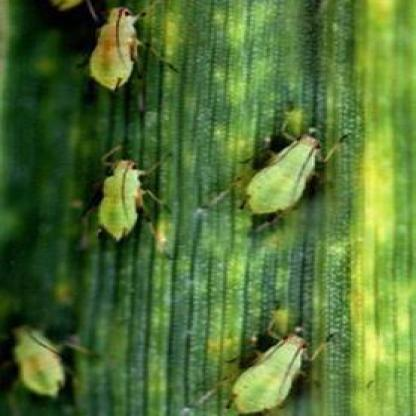aphid: (228, 113, 346, 225), (216, 310, 336, 416), (69, 0, 182, 101), (76, 142, 170, 248), (3, 311, 86, 408)
